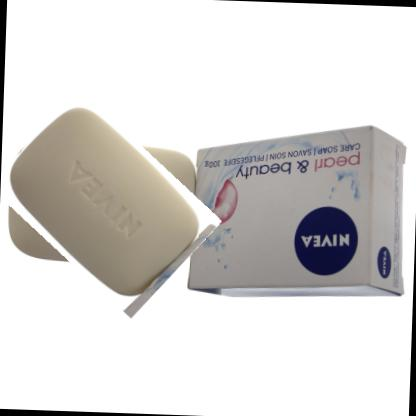soap: (0, 110, 216, 299)
